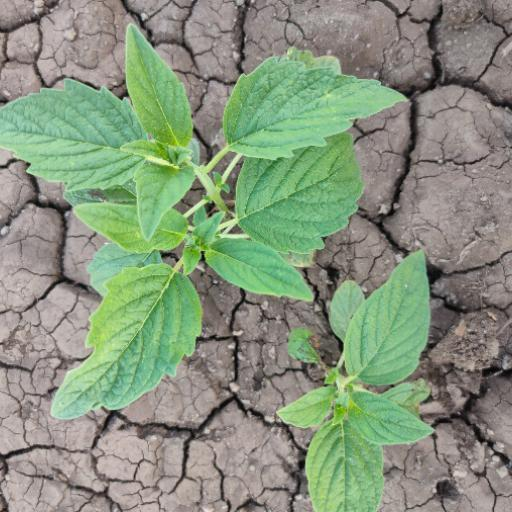crop: (4, 30, 408, 416), (260, 252, 467, 512)
